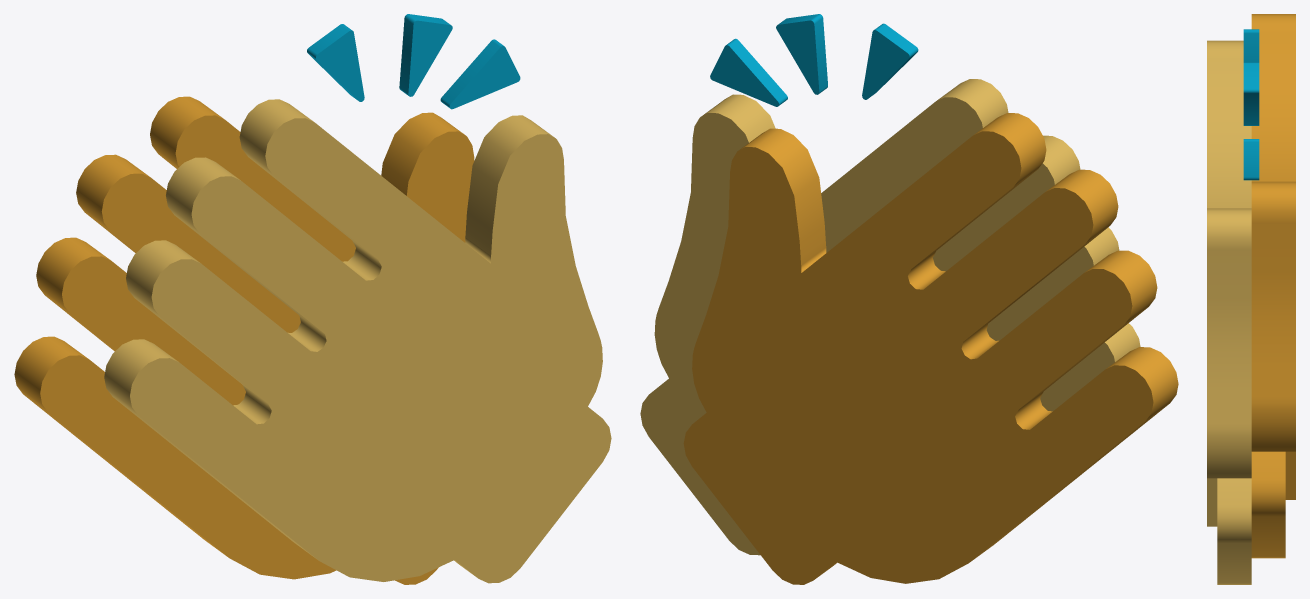
Rendered from emoji_2.glb.
The picture shows the model from 3 angles, left to right: view 1: azimuth 30°, elevation 25°; view 2: azimuth 150°, elevation 25°; view 3: azimuth 270°, elevation 25°; orthographic projection. The views are drawn at different scales.
Visible parts, largest first — view 1: Emoji_clap; view 2: Emoji_clap; view 3: Emoji_clap.
Part boxes in pixels (x1,y1,x2,y2): Emoji_clap: [14, 14, 611, 584]; Emoji_clap: [640, 14, 1178, 584]; Emoji_clap: [1207, 14, 1295, 584].
Size of the model in its own units: 0.7062 by 0.7023 by 0.1139.
